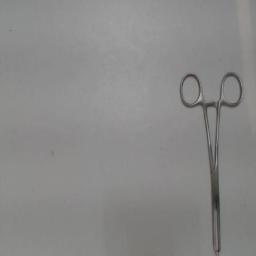Allis Tissue Forceps: (177, 68, 247, 256)
